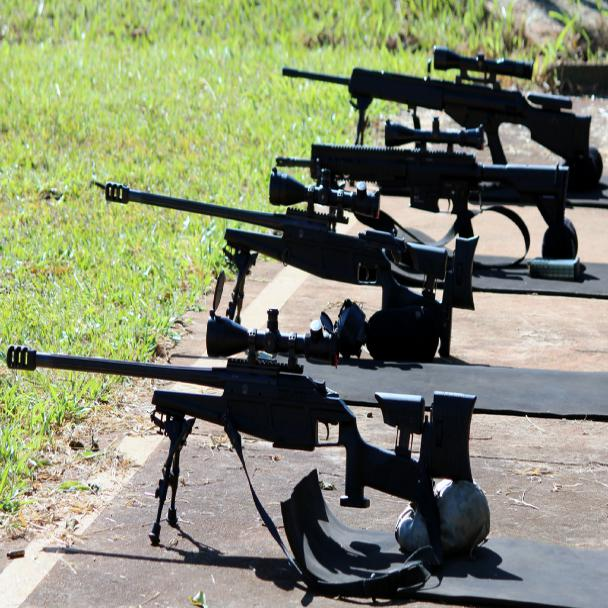Gun: (0, 304, 481, 590), (98, 130, 452, 359), (270, 14, 596, 186), (259, 104, 582, 256)
